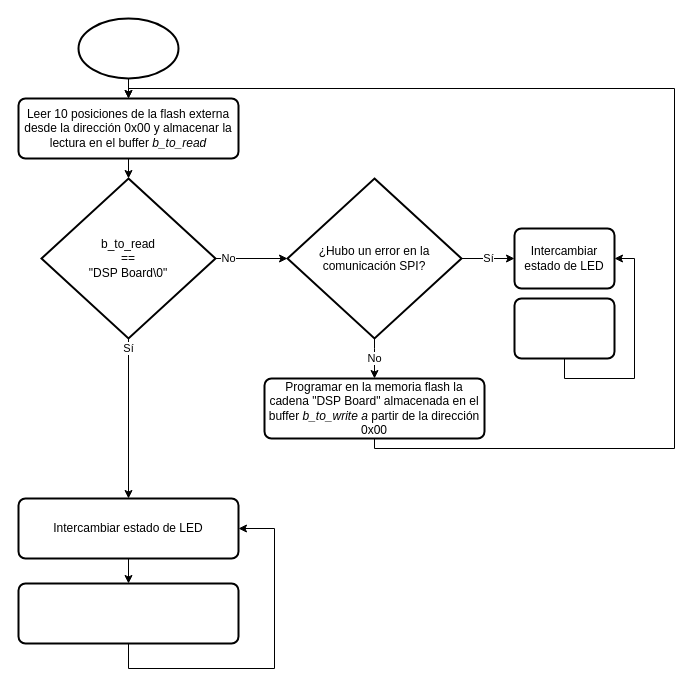
This 700x694 diagram has some shape labels left out. The shapes that lost their labels are listed below. From the top down, each one's centre as x and y in pixels, then its label:
point (128, 48): Fin de configuración
point (564, 328): Esperar 100 ms
point (128, 613): Esperar 1 s
